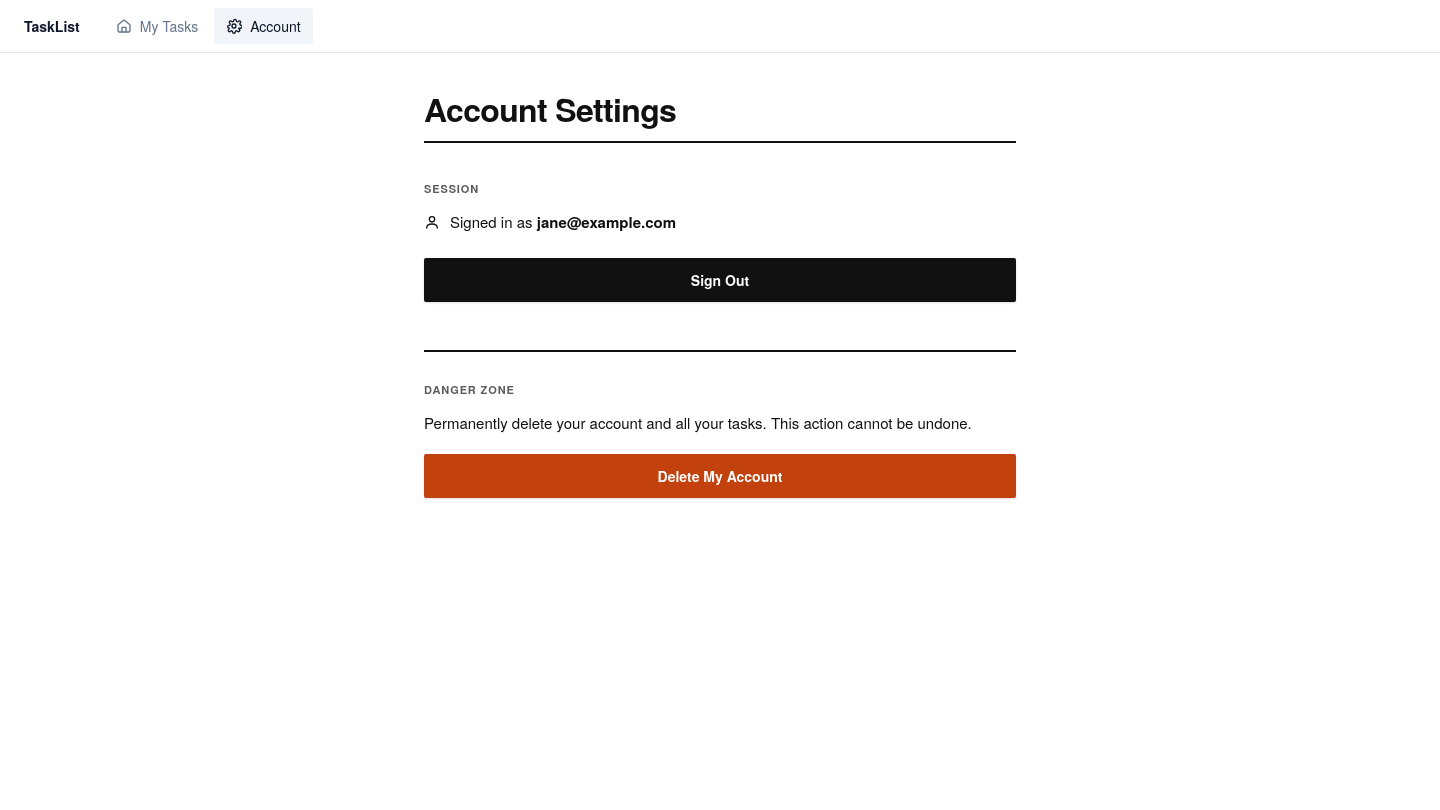
Account screen › [AC-012] shows an error message and stays on the account settings screen when DELETE /account fails
This screenshot has width=1440, height=810.
Click the button "Delete My Account" at (720, 476), box [424, 454, 1016, 498]
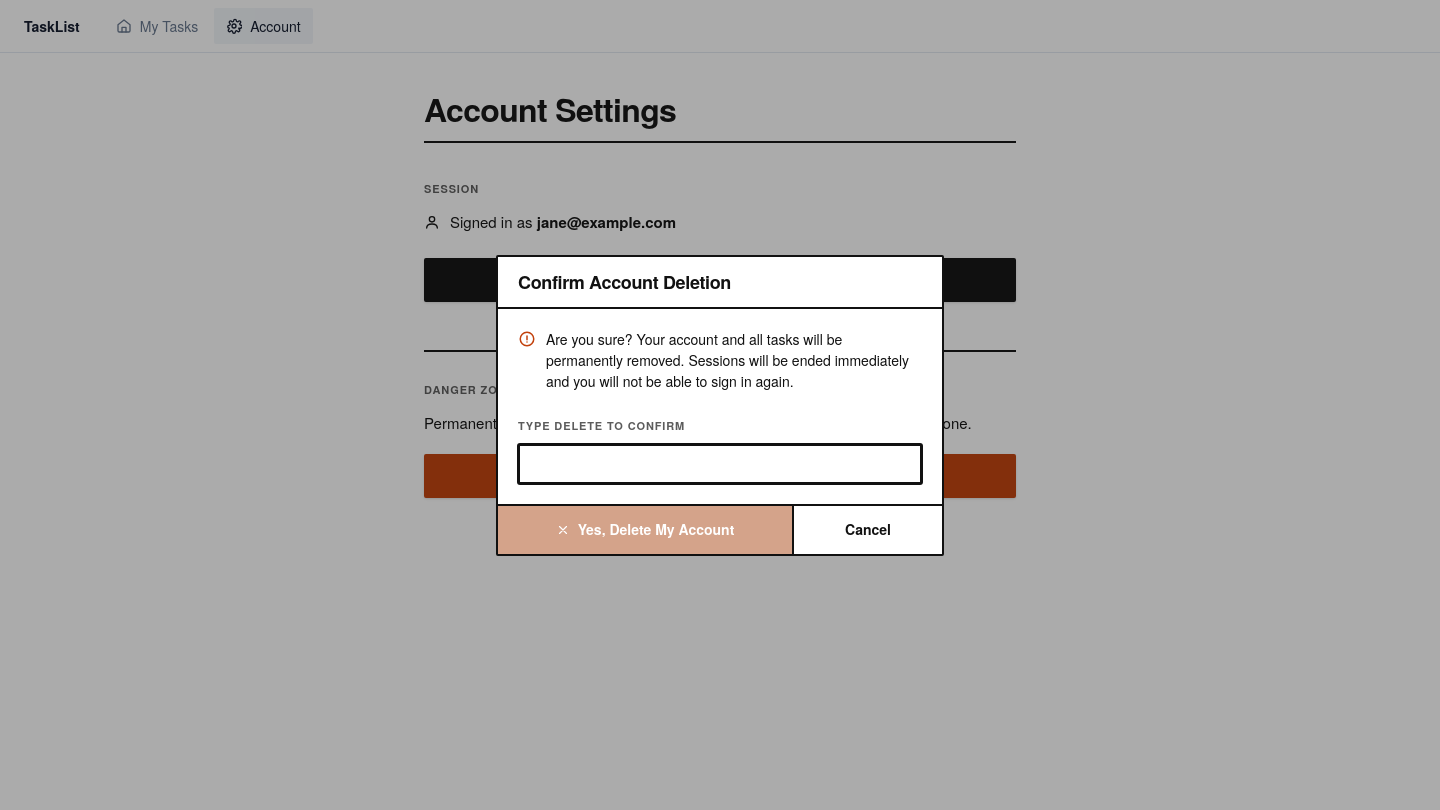
Type "DELETE" into the field labelled "Type DELETE to confirm" at (720, 464), box [518, 444, 922, 484]
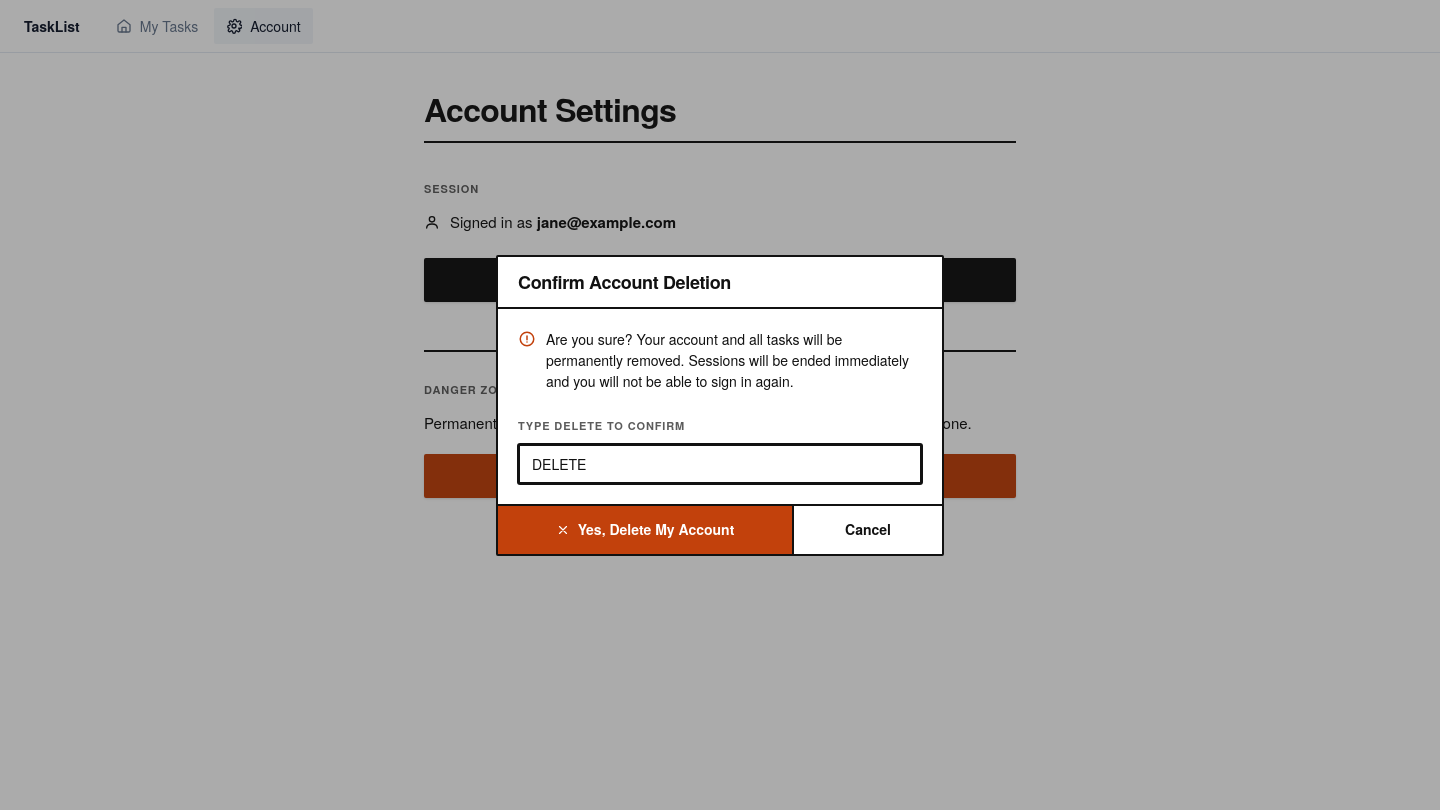
Click the button "Yes, Delete My Account" at (646, 530), box [498, 506, 794, 554]
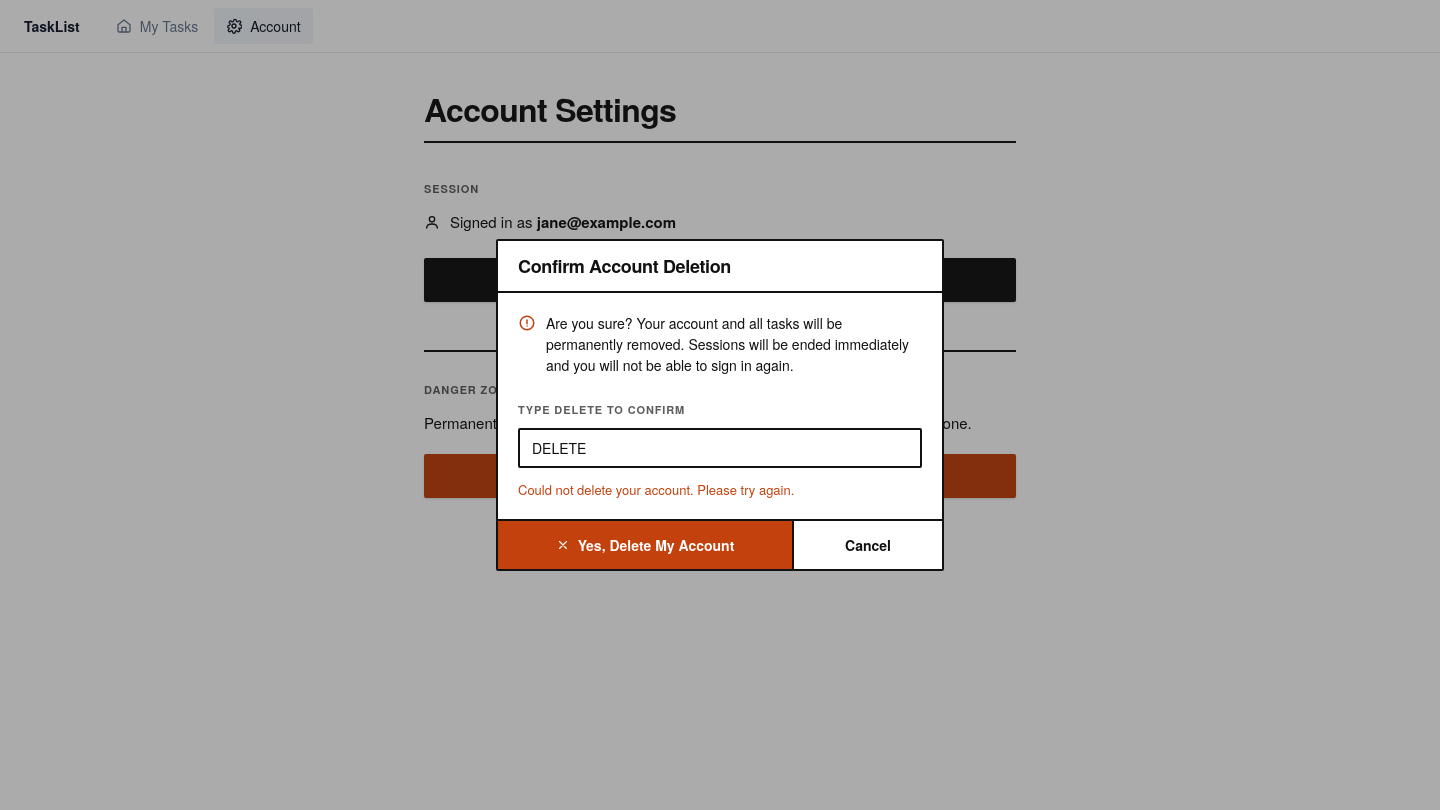
Expected: the heading "Account Settings" is shown, [424, 86, 676, 132]
Result: the text "Could not delete your account. Please try again." is shown at [518, 480, 794, 499]
